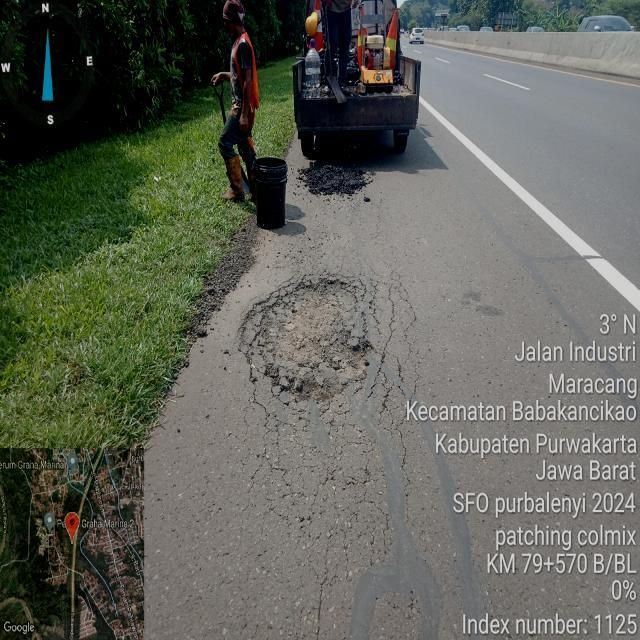Buraco: (235, 276, 378, 408)
